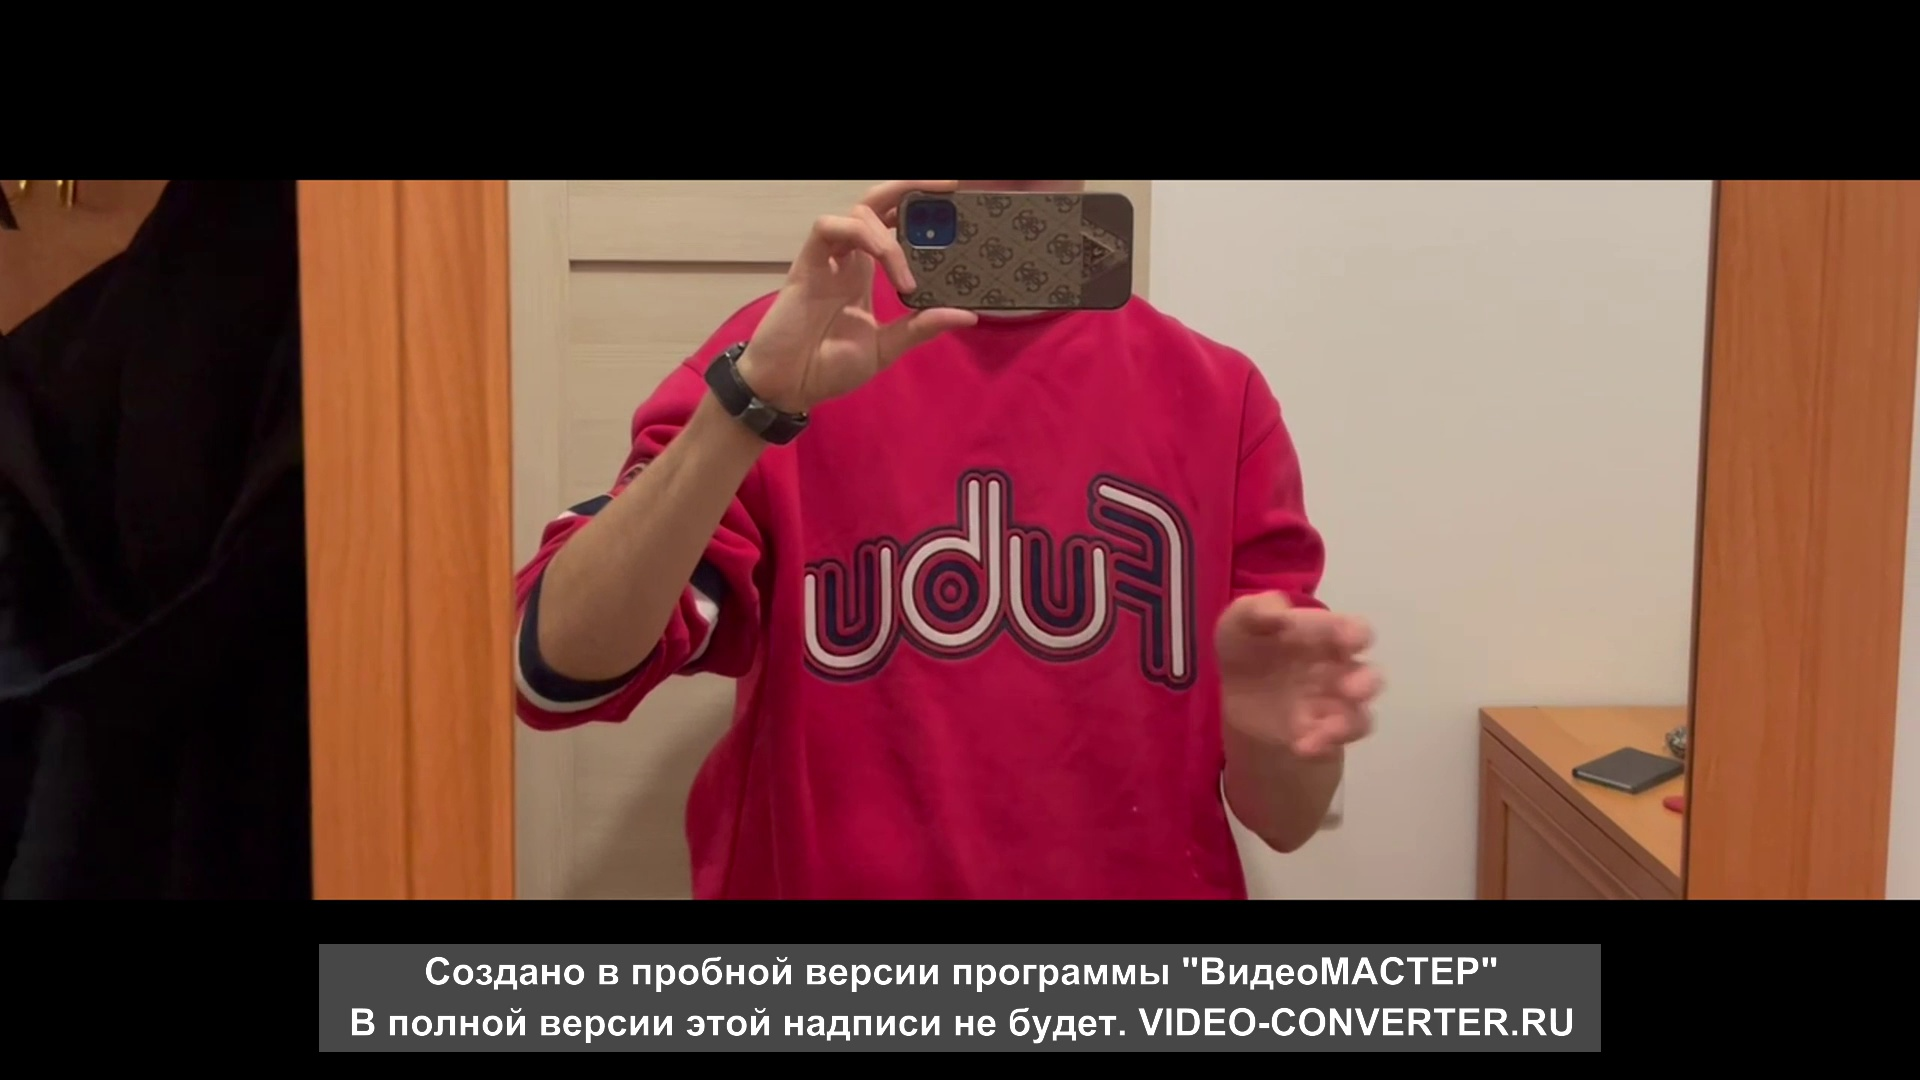Ладонь: (1215, 585, 1385, 761)
